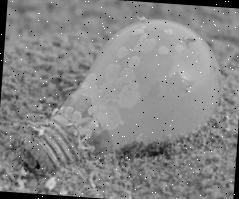lightbulb: (18, 7, 226, 186)
